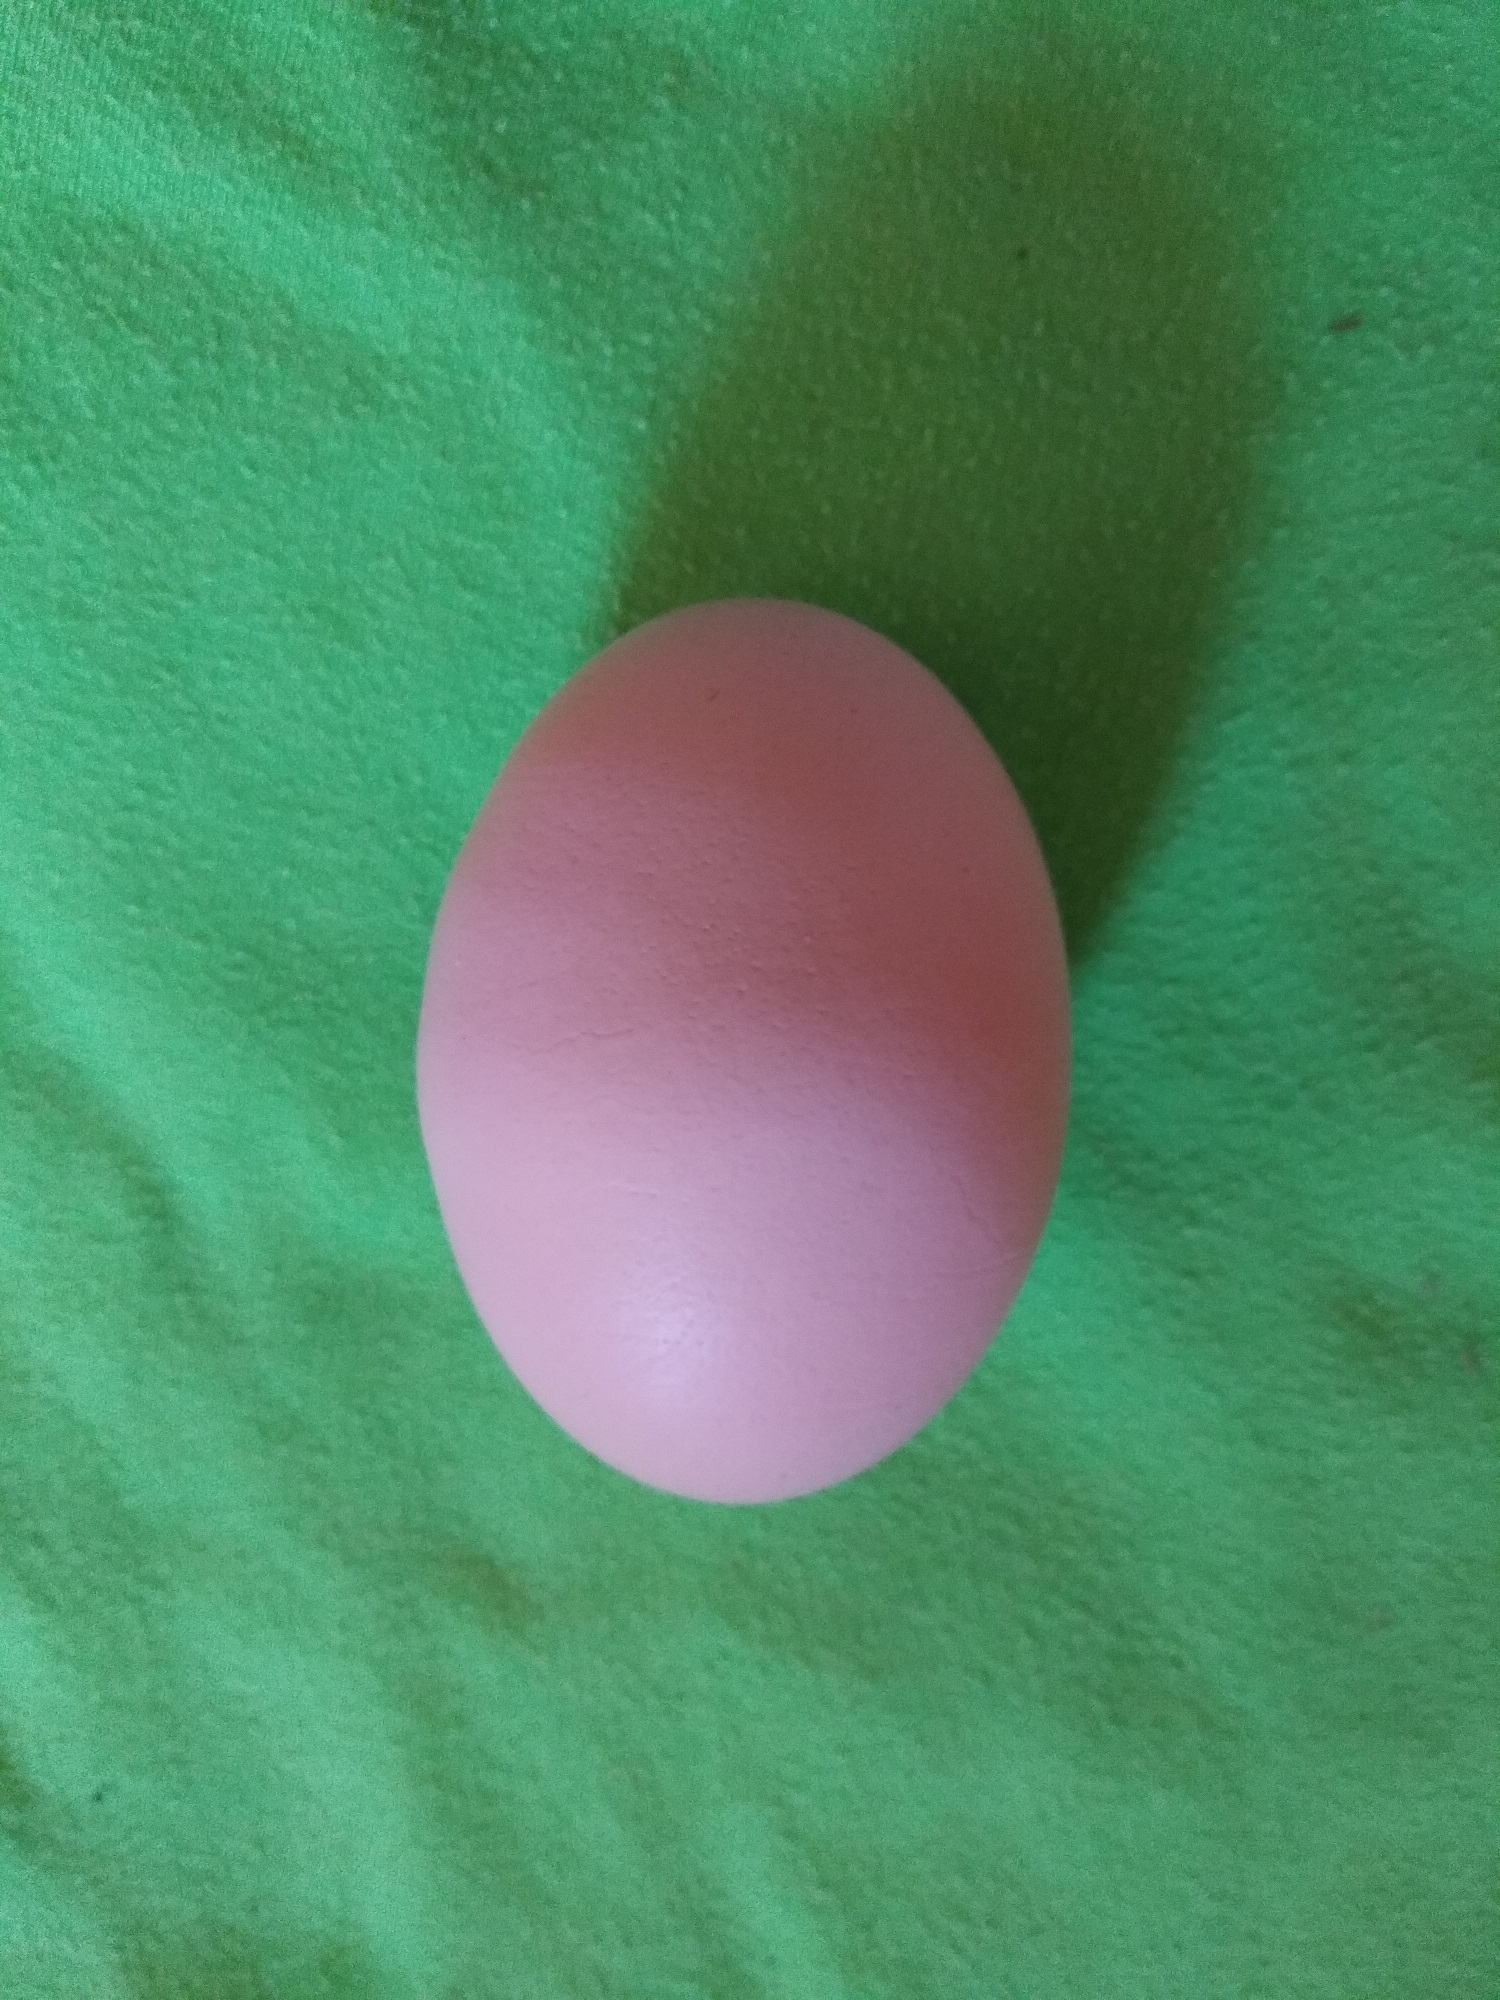Female: (410, 594, 1081, 1509)
